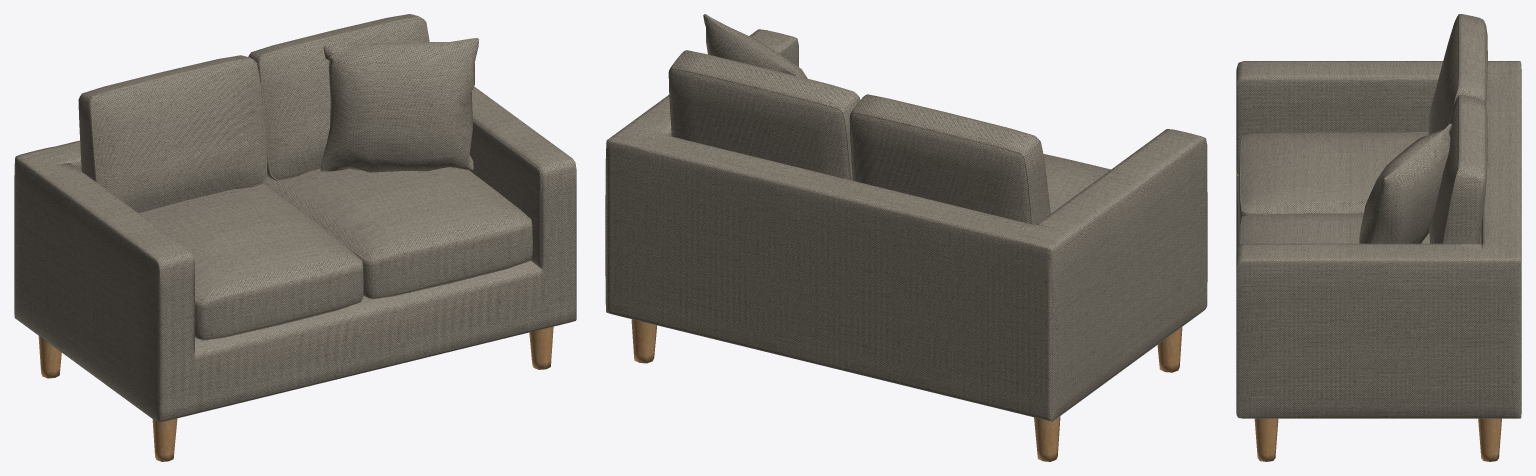
The model's file is design2.obj.
3 renders of one model, left to right at view 1: azimuth 30°, elevation 25°; view 2: azimuth 150°, elevation 25°; view 3: azimuth 270°, elevation 25°, orthographic. The views are drawn at different scales.
Parts seen in each view (by area): view 1: 04, 07, 08, 06, 10, 09, 05; view 2: 04, 07, 09, 05, 10, 06; view 3: 04, 06, 10, 09, 07, 08, 05.
Boxes of the visible parts, x1=… form: 04: x1=14, y1=86, x2=576, y2=422; 07: x1=78, y1=55, x2=267, y2=212; 08: x1=263, y1=167, x2=532, y2=299; 06: x1=139, y1=183, x2=363, y2=340; 10: x1=320, y1=38, x2=478, y2=172; 09: x1=248, y1=14, x2=429, y2=180; 05: x1=38, y1=326, x2=553, y2=461; 04: x1=605, y1=29, x2=1207, y2=421; 07: x1=849, y1=94, x2=1050, y2=224; 09: x1=668, y1=50, x2=860, y2=180; 05: x1=631, y1=319, x2=1182, y2=461; 10: x1=703, y1=14, x2=807, y2=78; 06: x1=1043, y1=154, x2=1110, y2=213; 04: x1=1236, y1=61, x2=1521, y2=418; 06: x1=1239, y1=132, x2=1428, y2=234; 10: x1=1359, y1=123, x2=1451, y2=243; 09: x1=1429, y1=95, x2=1487, y2=243; 07: x1=1428, y1=14, x2=1487, y2=134; 08: x1=1239, y1=213, x2=1429, y2=244; 05: x1=1254, y1=418, x2=1501, y2=461.
Bounding box in the file's own units: 1201 × 775 × 717.
2 materials, 2 textured.
